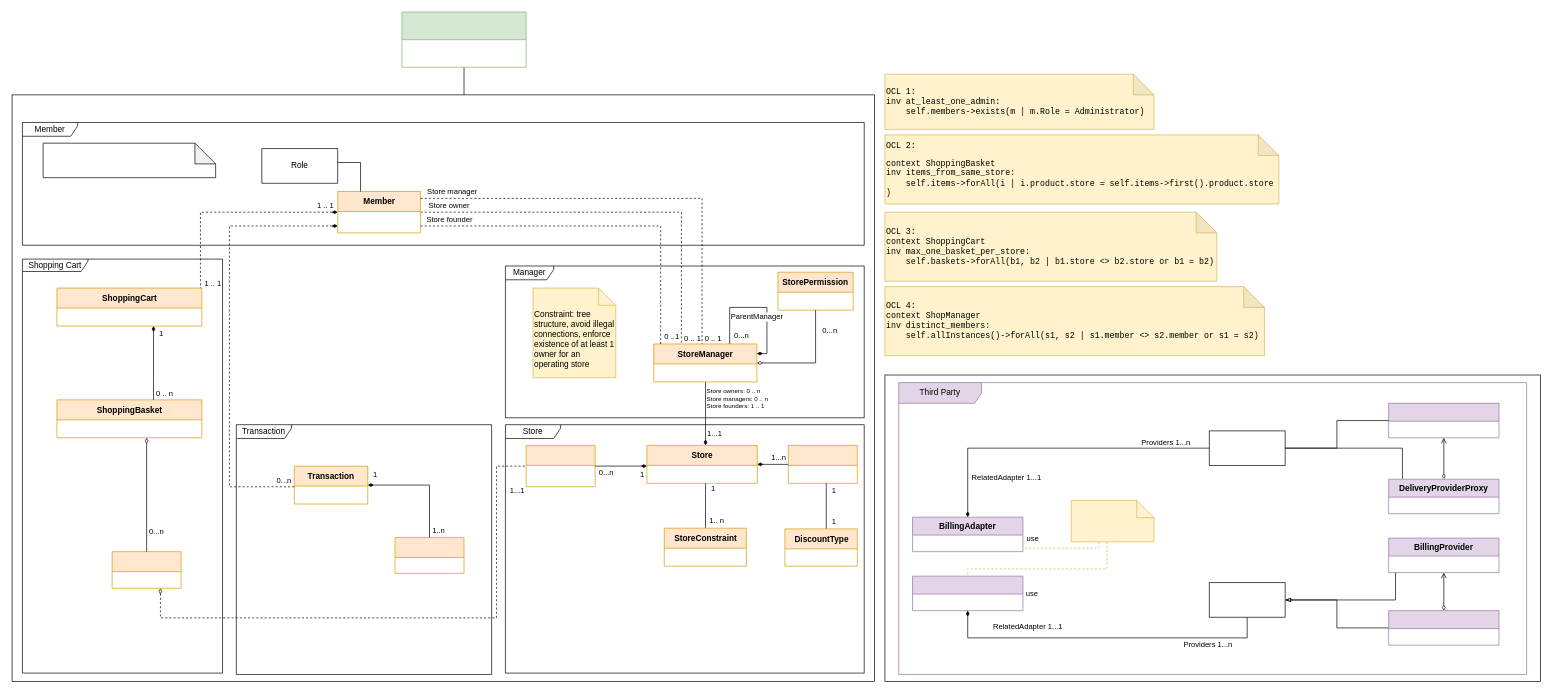
Image size: 1553x693. Some labels were removed from this diagram. Here are the shapes that lost their labels. From the top down, the centre of each, then its label:
At point 463,39: "Market".
At point 129,160: "Role: Member, Administrator".
At point 1443,420: "DeliveryProvider".
At point 560,466: "Product".
At point 822,464: "DiscountRule".
At point 1247,447: "«interface» IDeliveryProvider".
At point 1112,521: "Singletons".
At point 146,569: "ShoppingItem".
At point 429,555: "TransactionItem".
At point 967,593: "DeliveryAdapter".
At point 1247,599: "«interface» IBillingProvider".
At point 1443,627: "BillingProviderProxy".
